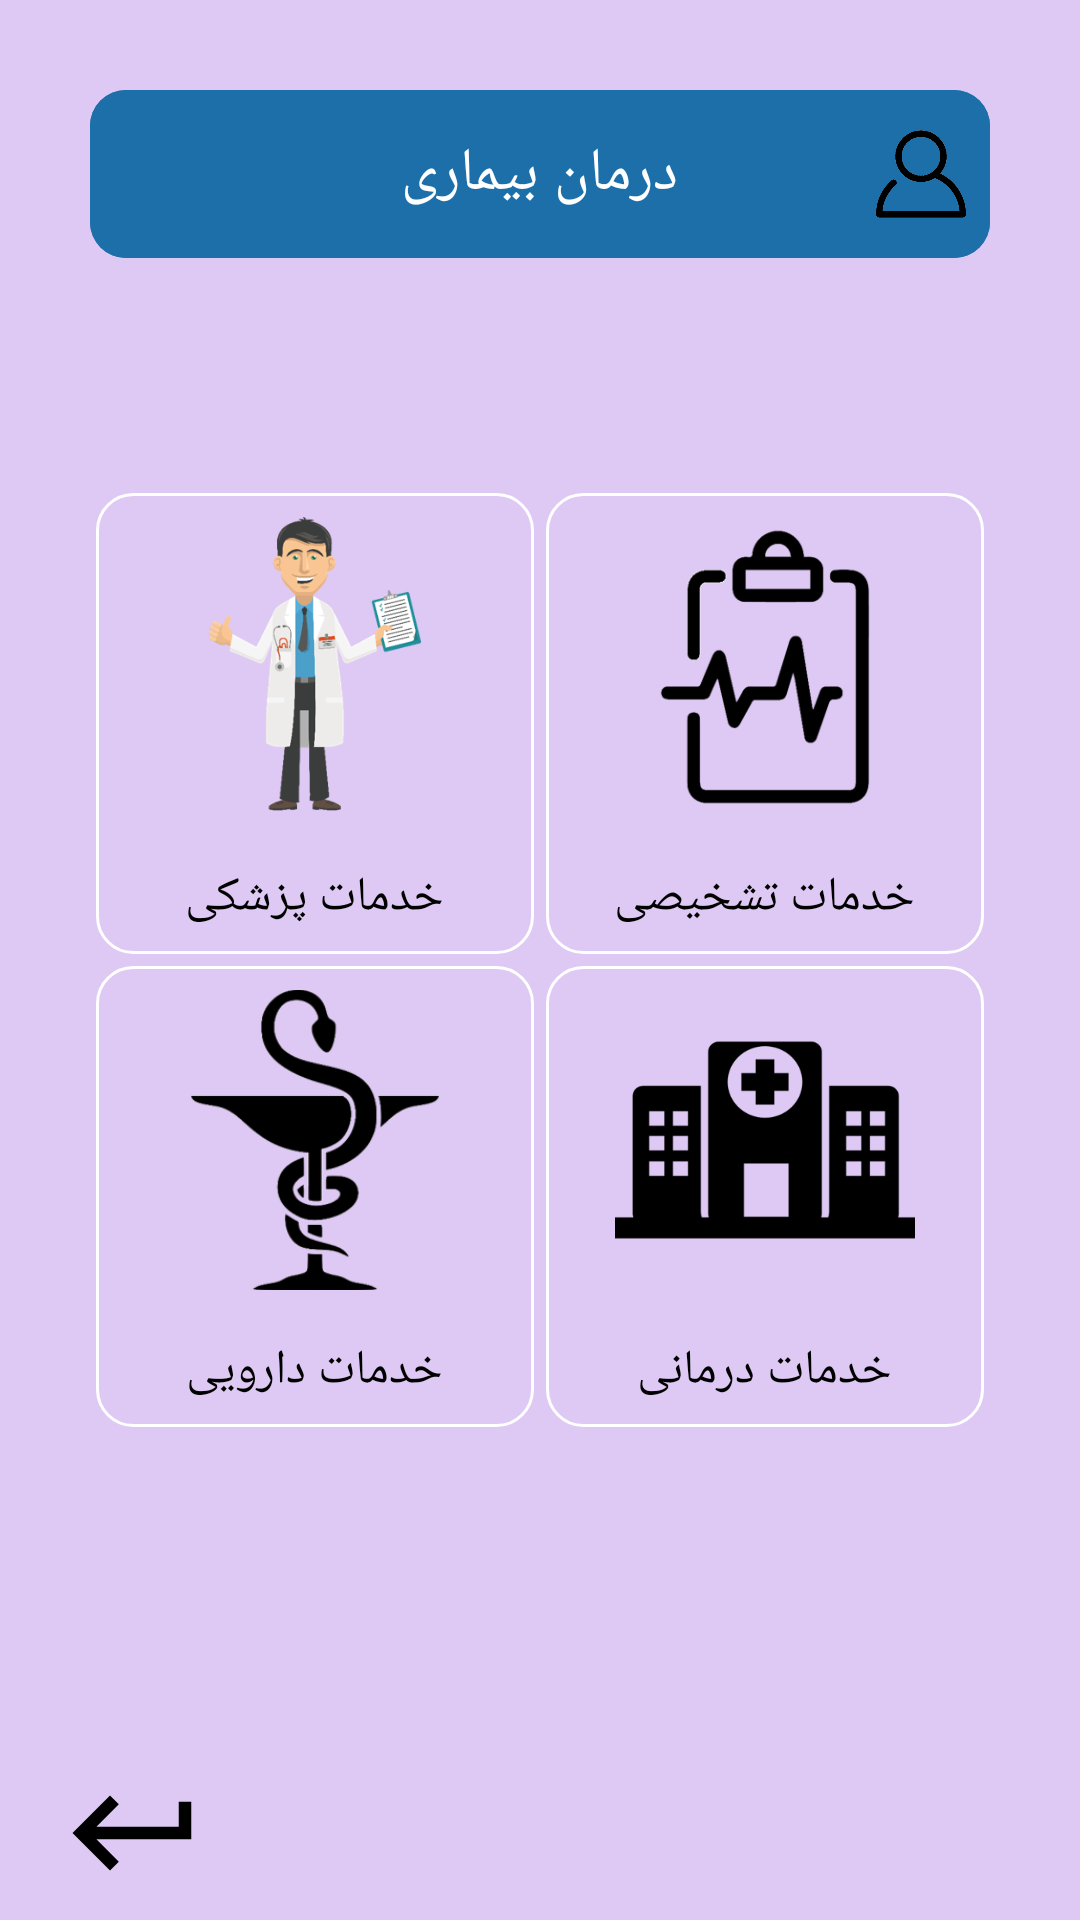

Icon click points for this 1080*1920 phone screenshot, format (x=x, y=y):
keyboard return: (x=132, y=1833)
login: (x=921, y=174)
